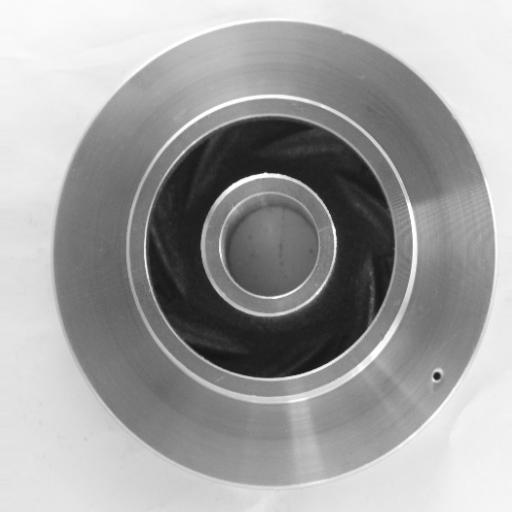pit: (419, 361, 453, 386)
unpolished_casting: (53, 20, 498, 489)
